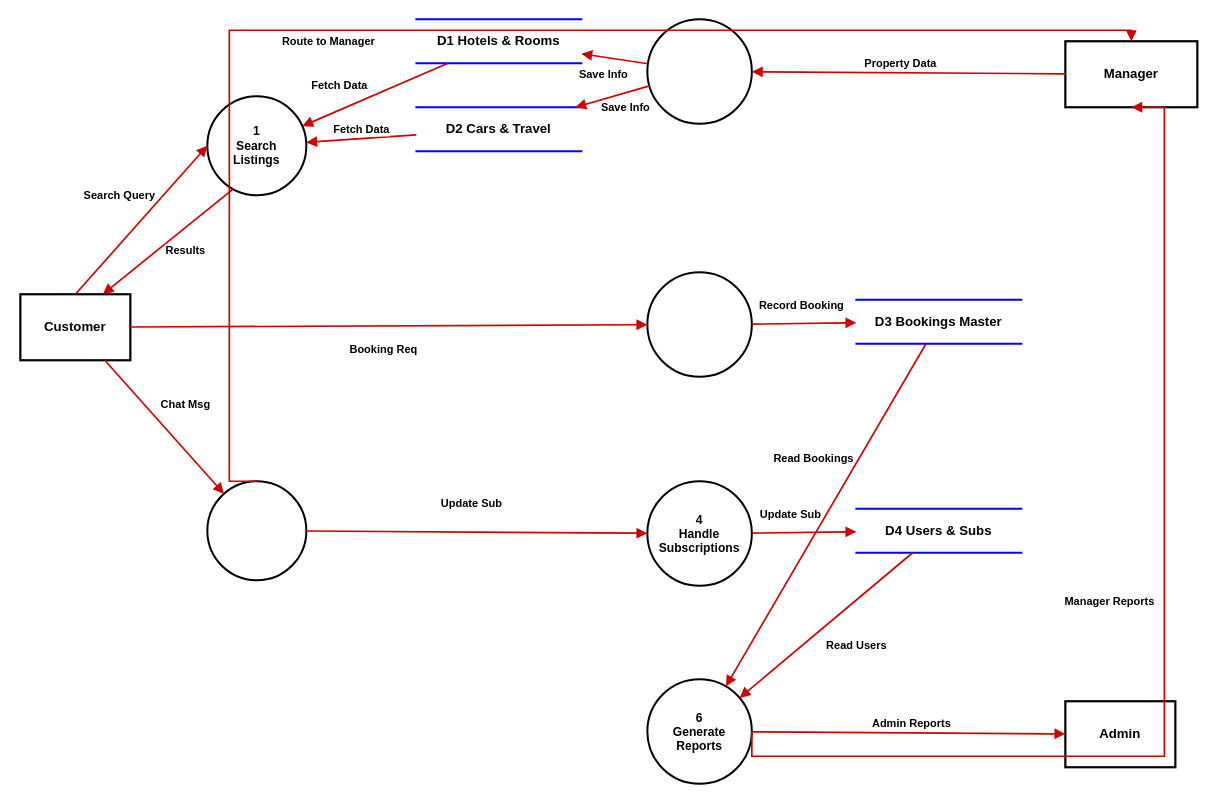
Image size: 1217x804. Some labels were removed from this diagram. Each missing label, with the centre of its shape:
"2 Manage Hotels & Cars" goes at (x=699, y=71).
"3 Process Bookings" goes at (x=699, y=324).
"5 Route Chat Messages" goes at (x=256, y=530).
